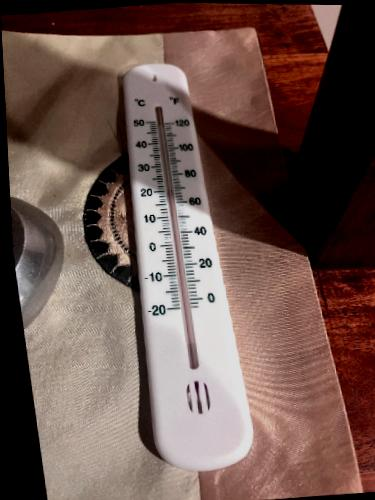thermo: (121, 60, 256, 463)
